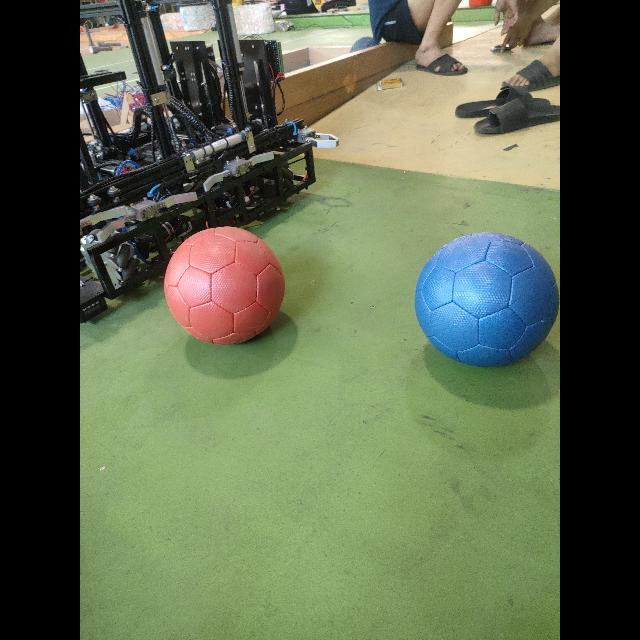B: (415, 232, 559, 366)
R: (165, 228, 284, 345)
